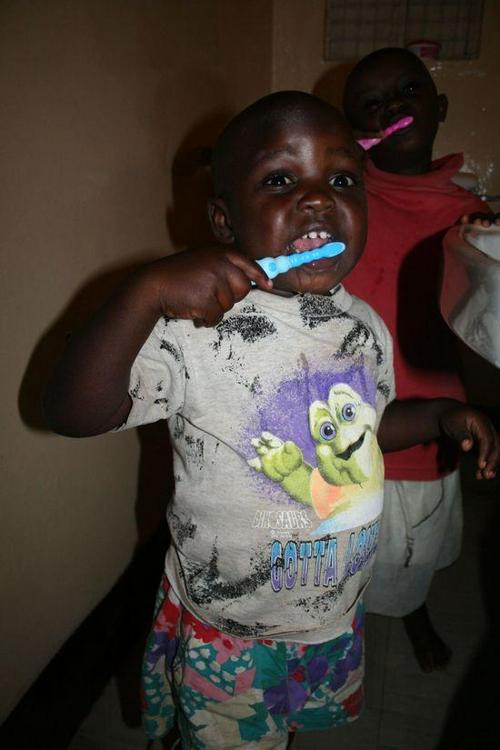person: (16, 91, 500, 750)
